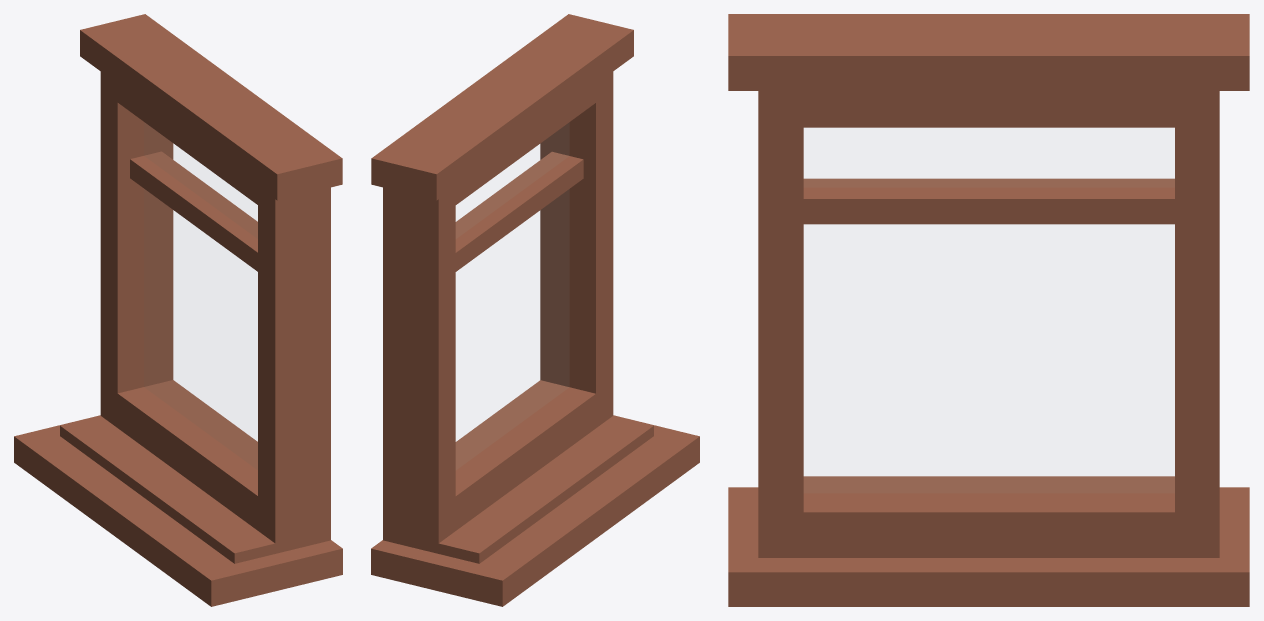
The model's file is Window.fbx.
3 renders of one model, left to right at view 1: azimuth 30°, elevation 25°; view 2: azimuth 150°, elevation 25°; view 3: azimuth 270°, elevation 25°, orthographic. The views are drawn at different scales.
Visible parts, largest first — view 1: Cube, Cube.003, Cube.002; view 2: Cube, Cube.003, Cube.002; view 3: Cube, Cube.003, Cube.002.
Part boxes in pixels (x1,y1,x2,y2): Cube: (60, 72, 330, 563); Cube.003: (80, 14, 342, 200); Cube.002: (14, 415, 342, 606); Cube: (383, 72, 653, 563); Cube.003: (371, 14, 633, 200); Cube.002: (371, 415, 699, 606); Cube: (758, 91, 1219, 557); Cube.003: (728, 14, 1249, 90); Cube.002: (728, 487, 1249, 606).
Size of the model in its own units: 89.56 by 271 by 232.
